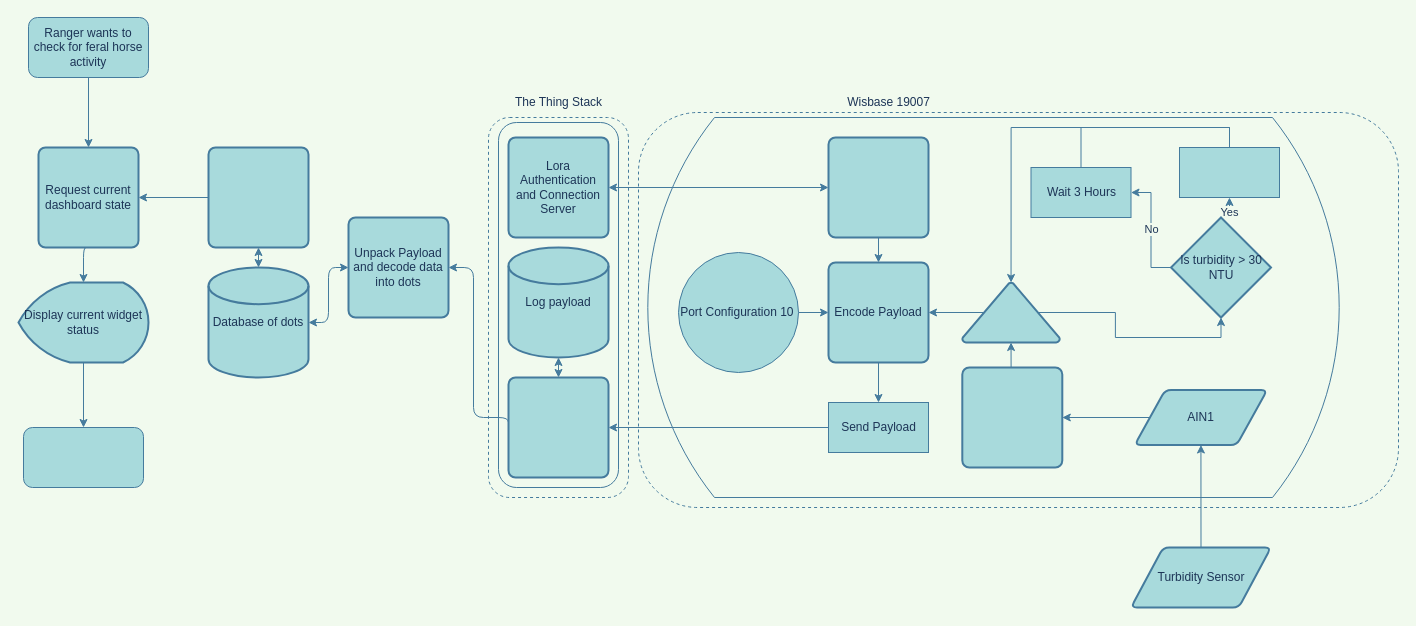
This 1416x626 diagram has some shape labels left out. Each missing label, with the centre of its shape:
Convert Analoge Signal to NTU: (x=1012, y=417)
Forward Payload to Ubidots: (x=558, y=427)
Obtain Session Token / Authenticate with Lora: (x=878, y=187)
Ranger obtains feral horse activity: (x=83, y=457)
Refresh Dashboard Variables: (x=258, y=197)
Take Measurement: (x=1010, y=312)
Wait 20 Minutes: (x=1229, y=172)
